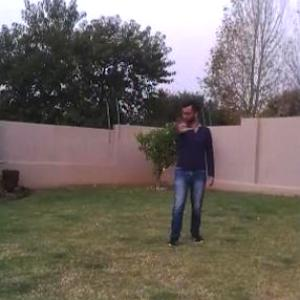follow_hand: (174, 113, 192, 136)
